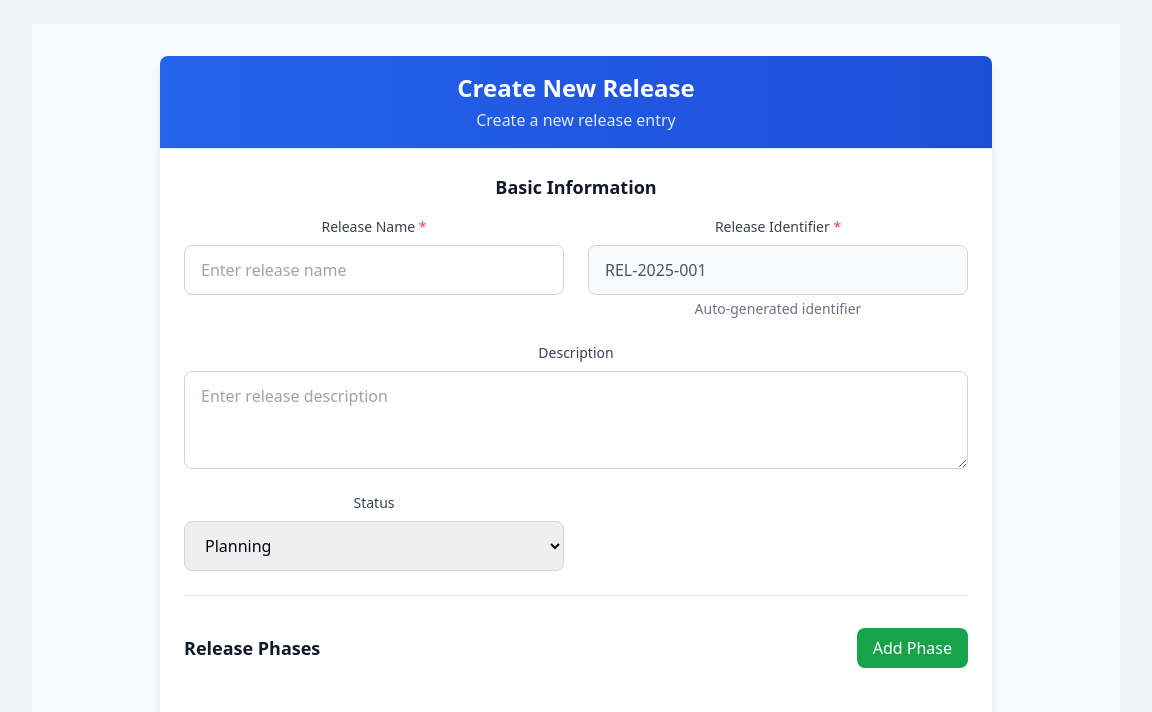
Test: ReleaseForm › Phase Management › should remove a phase when Remove button is clicked
Note: Add a phase
Click the button "Add Phase" at (912, 648), box [857,628,968,668]
(page scrolled)
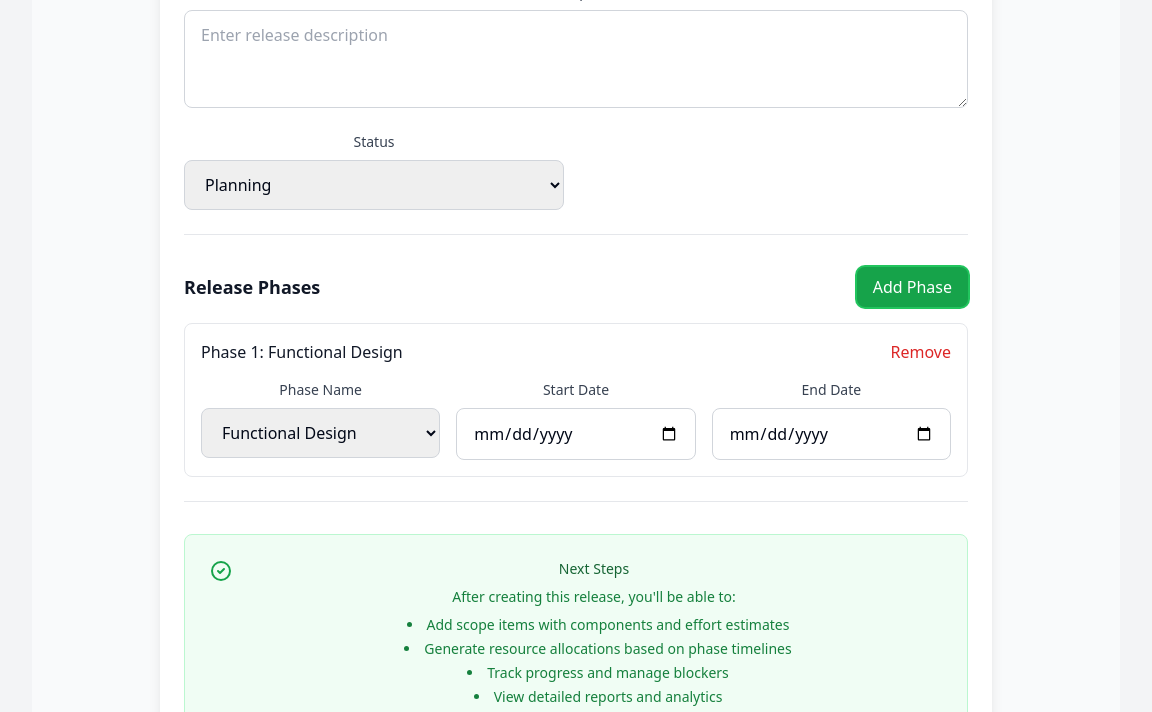
Now the heading "Phase 1: Functional Design" is shown, box [201,340,403,364]
Note: Remove the phase
Click the button "Remove" at (921, 352), box [890,340,951,364]
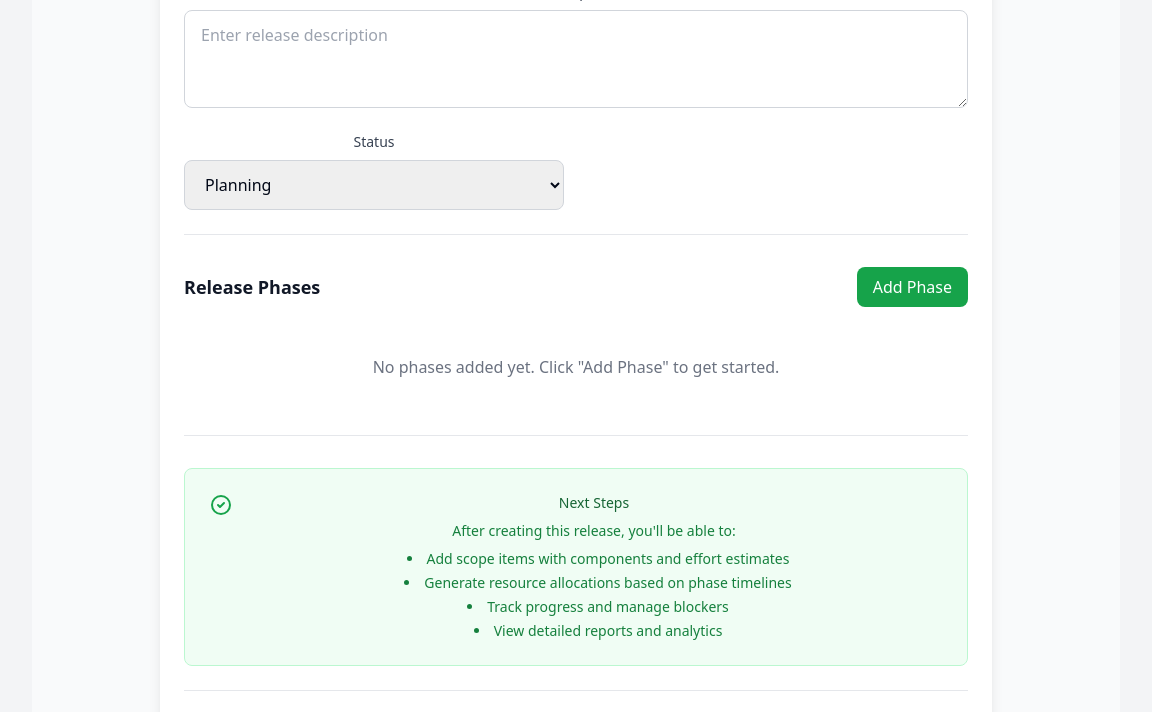
Now the heading "Phase 1:" is gone
